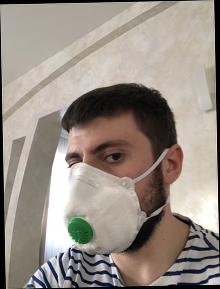with_mask: (60, 130, 155, 256)
